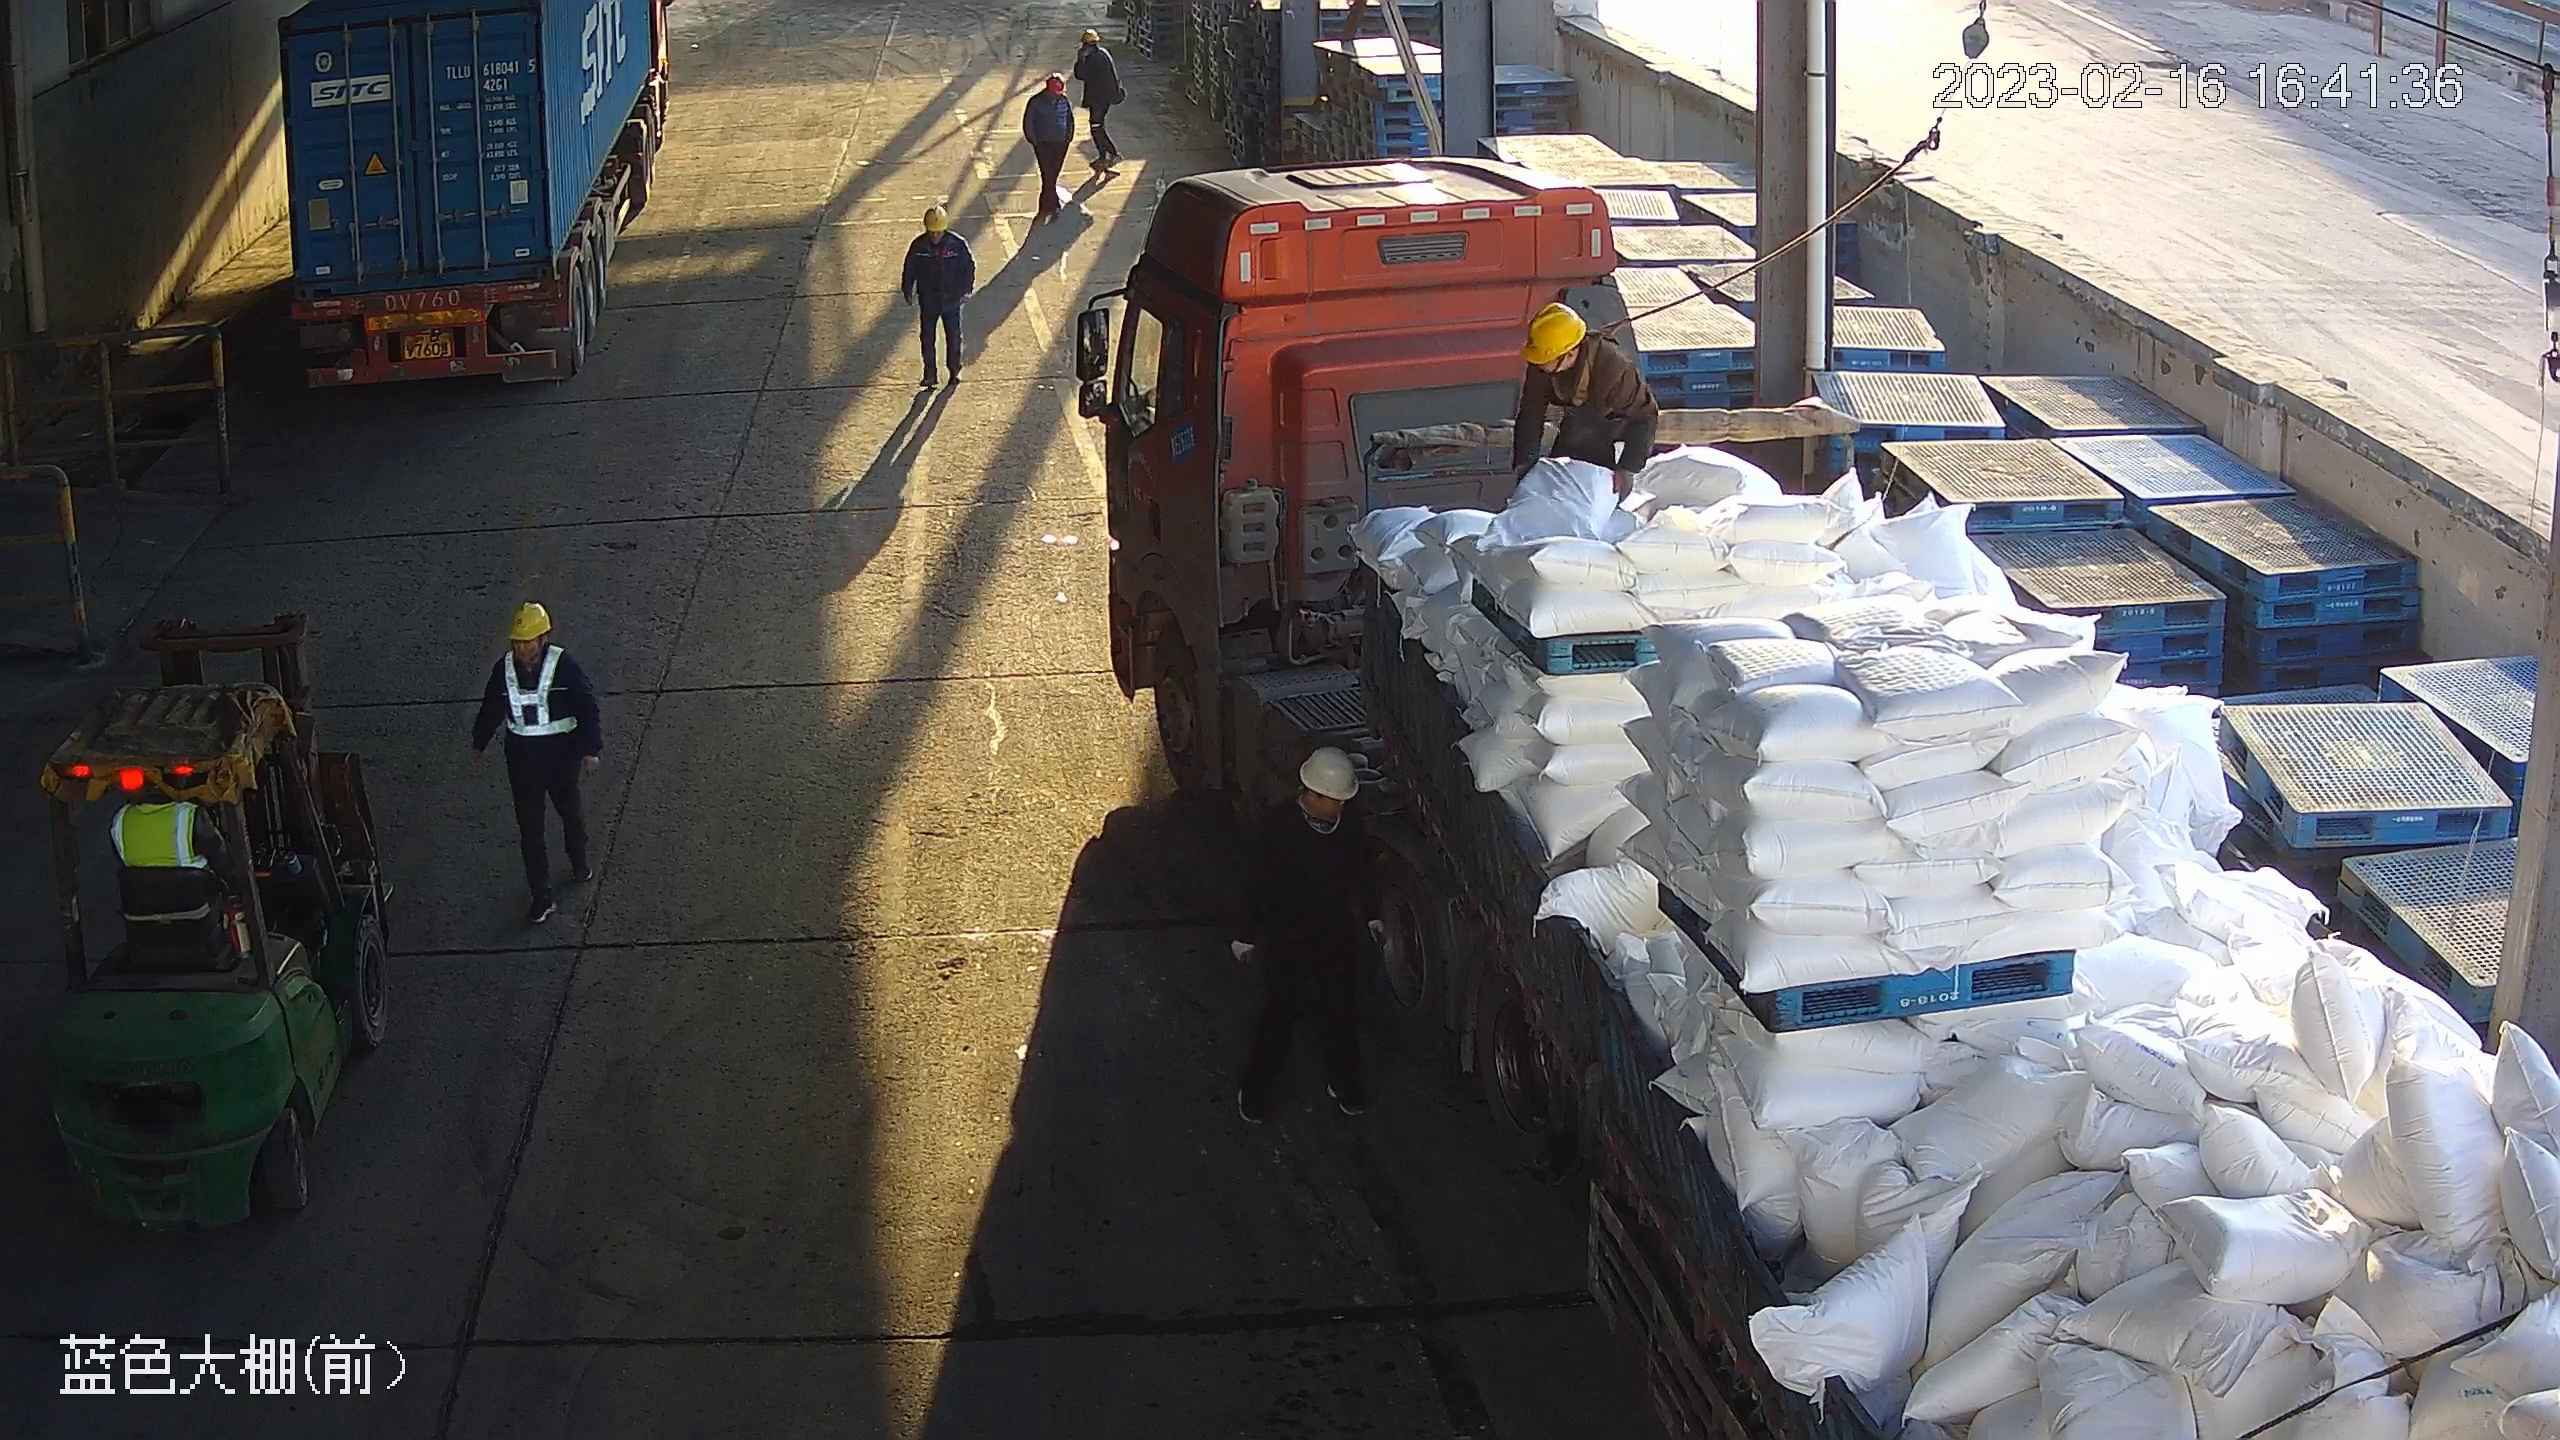belt: (1547, 318, 1630, 408)
head: (477, 602, 588, 713), (1513, 299, 1625, 402), (904, 205, 972, 264), (1076, 27, 1119, 81), (1026, 73, 1073, 122)
helmet: (1522, 303, 1588, 365), (509, 602, 553, 642), (922, 206, 949, 230), (1080, 27, 1100, 45), (1046, 74, 1063, 94)
people: (469, 603, 606, 925), (1515, 302, 1660, 499), (900, 205, 976, 389), (1075, 28, 1128, 171), (1023, 72, 1073, 221)
truck: (1073, 152, 2560, 1440), (269, 8, 673, 396)
